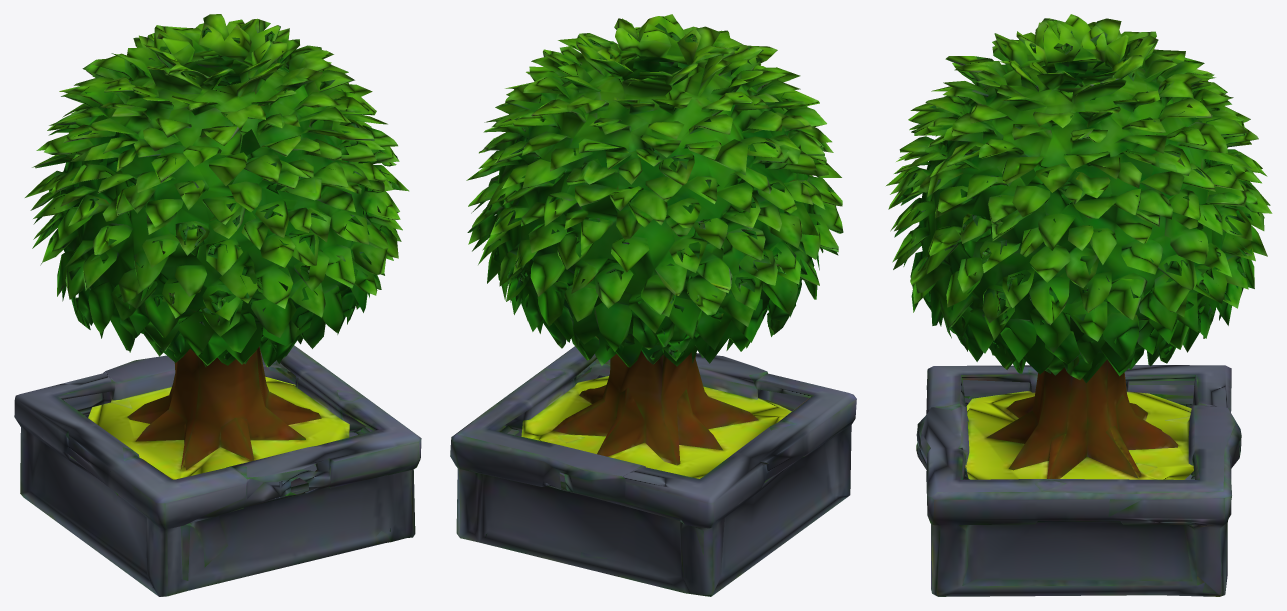
Rendered from prop_cloud_teatree.glb.
3 views of the same model, side by side, from view 1: azimuth 30°, elevation 25°; view 2: azimuth 150°, elevation 25°; view 3: azimuth 270°, elevation 25° (orthographic). The views are drawn at different scales.
Parts seen in each view (by area): view 1: geometry_0; view 2: geometry_0; view 3: geometry_0.
Boxes of the visible parts, box(x1,y1,x2,y2) form: geometry_0: box(14, 14, 421, 596); geometry_0: box(450, 14, 856, 596); geometry_0: box(886, 14, 1272, 596).
Bounding box in the file's own units: 0.7228 × 0.9972 × 0.7181.
1 material, 1 textured.
